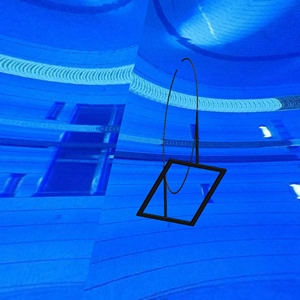circle: (135, 57, 227, 229)
